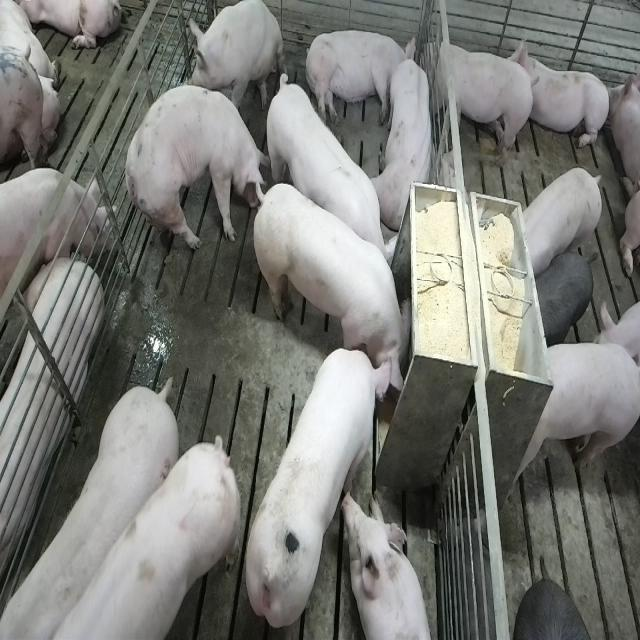Lateral_lying: (1, 258, 106, 585), (304, 27, 421, 119)
Sitting: (188, 0, 284, 107)
Standing: (0, 379, 178, 640), (244, 347, 392, 630), (54, 428, 238, 640), (253, 178, 411, 382), (264, 68, 402, 276), (125, 81, 266, 244), (514, 342, 640, 481), (425, 26, 539, 162), (0, 170, 116, 292), (371, 56, 432, 231), (515, 165, 608, 260), (529, 252, 594, 346)
Sternal_lying: (340, 486, 430, 640), (506, 38, 610, 154)
